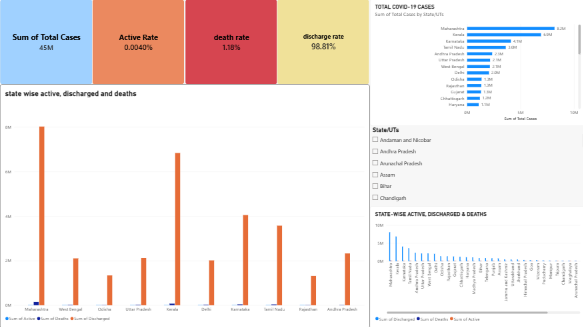

The page's visual inventory and layout, read from the dashboard file:
{"tool":"powerbi","page":{"name":"Page 1","canvas":[1920,1080],"ordinal":0},"visuals":[{"type":"actionButton","box":[0,0,100,40],"z":0},{"type":"cardVisual","fields":{"Data":["Sum(covid_india.Total Cases)"]},"box":[0,0,303,279],"z":1000},{"type":"cardVisual","fields":{"Data":["covid_india.death rate"]},"box":[606,0,303,279],"z":2000},{"type":"cardVisual","fields":{"Data":["covid_india.discharge rate"]},"box":[909,0,303,279],"z":3000},{"type":"cardVisual","fields":{"Data":["covid_india.Active Rate"]},"box":[303,0,303,279],"z":4000},{"type":"clusteredBarChart","title":"TOTAL COVID-19 CASES","fields":{"Category":["covid_india.State/UTs"],"Y":["Sum(covid_india.Total Cases)"]},"box":[1212.5,0,708.6,415.1],"z":5000},{"type":"clusteredColumnChart","title":"state wise active, discharged and deaths","fields":{"Category":["covid_india.State/UTs"],"Y":["Sum(covid_india.Active)","Sum(covid_india.Deaths)","Sum(covid_india.Discharged)"]},"box":[0,280,1212.5,800],"z":6000},{"type":"slicer","fields":{"Values":["covid_india.State/UTs"]},"box":[1212.5,415,707.5,265],"z":7000},{"type":"clusteredColumnChart","title":"STATE-WISE ACTIVE, DISCHARGED & DEATHS","fields":{"Category":["covid_india.State/UTs"],"Y":["Sum(covid_india.Discharged)","Sum(covid_india.Deaths)","Sum(covid_india.Active)"]},"box":[1213,680,707,400],"z":8000}]}

Visuals, with their boxes in screenshot pixels (x1, y1, x2, y2), scaled from the page's 1920x1080 canvas onto the 583x327 screenshot:
actionButton: pyautogui.locateOnScreen(0, 0, 30, 12)
cardVisual - Sum(covid_india.Total Cases): pyautogui.locateOnScreen(0, 0, 92, 84)
cardVisual - covid_india.death rate: pyautogui.locateOnScreen(184, 0, 276, 84)
cardVisual - covid_india.discharge rate: pyautogui.locateOnScreen(276, 0, 368, 84)
cardVisual - covid_india.Active Rate: pyautogui.locateOnScreen(92, 0, 184, 84)
"TOTAL COVID-19 CASES" clusteredBarChart: pyautogui.locateOnScreen(368, 0, 582, 126)
"state wise active, discharged and deaths" clusteredColumnChart: pyautogui.locateOnScreen(0, 85, 368, 326)
slicer - covid_india.State/UTs: pyautogui.locateOnScreen(368, 126, 582, 206)
"STATE-WISE ACTIVE, DISCHARGED & DEATHS" clusteredColumnChart: pyautogui.locateOnScreen(368, 206, 582, 326)
